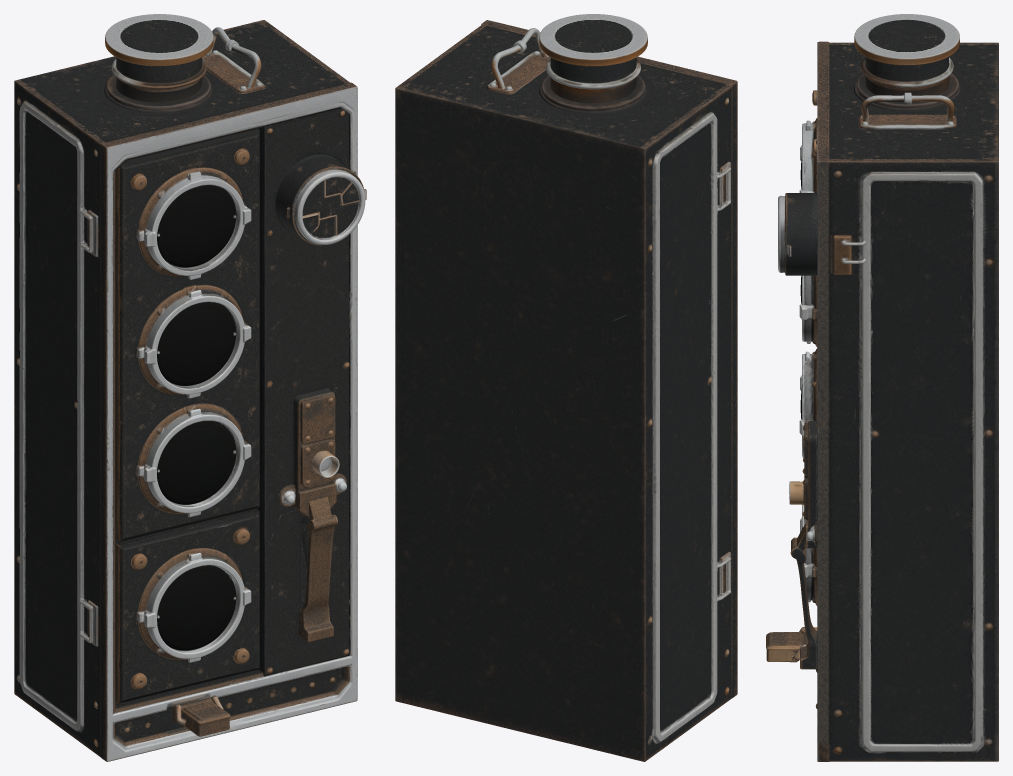
File: cab_signal_box_textured.glb
3 views of the same model, side by side, from view 1: azimuth 30°, elevation 25°; view 2: azimuth 150°, elevation 25°; view 3: azimuth 270°, elevation 25° (orthographic). The views are drawn at different scales.
Size of the model in its own units: 0.7869 by 1.9 by 0.6142.
1 material, 1 textured.
